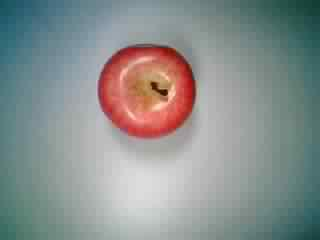apple: (92, 40, 198, 144)
